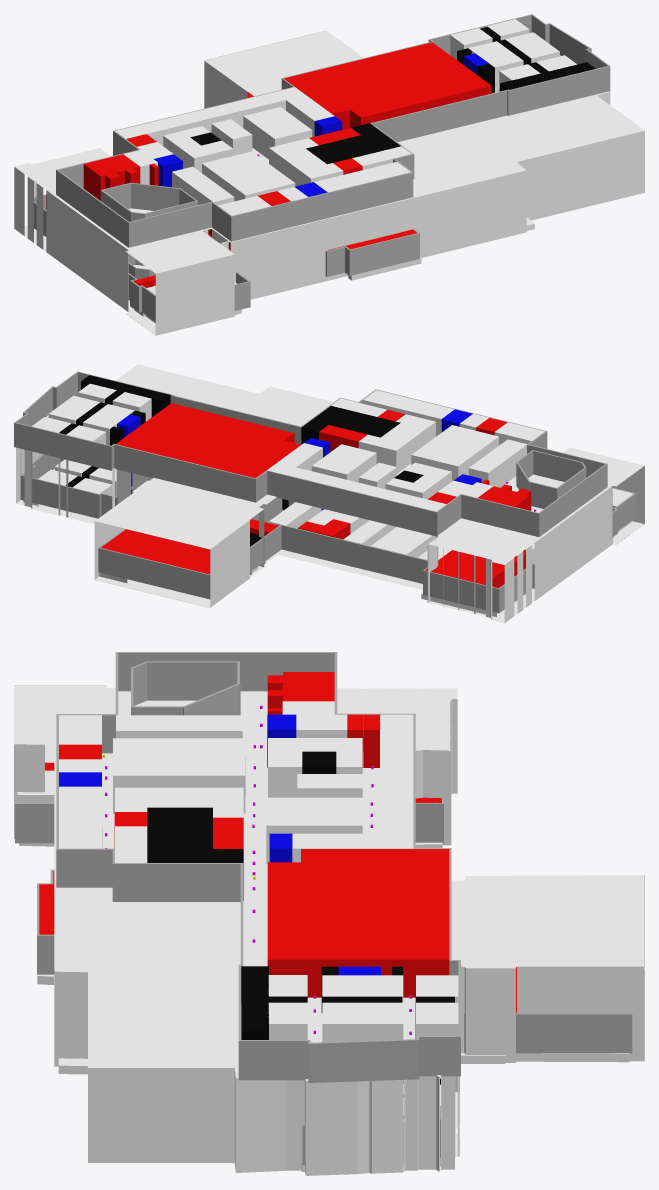
Rendered from school.dae.
3 renders of one model, top to bottom at view 1: azimuth 30°, elevation 25°; view 2: azimuth 150°, elevation 25°; view 3: azimuth 270°, elevation 25°, orthographic. The views are drawn at different scales.
Parts seen in each view (by area): view 1: Floor2_base, Structures2, Upper_Gym, Non_001, Wall__75_, Wall__53_, Wall__54__001, Wall__73_, Wall__72_, Wall__19_, Bathroom_001, Multi-Purpose_Room (+5 smaller); view 2: Floor2_base, Structures2, Upper_Gym, Structures1, Non_001, Wall__69_, Wall__3_, Wall__67_, Wall__2_, North_Gym, Wall__65_, Wall__53_ (+19 smaller); view 3: Floor2_base, Structures2, Upper_Gym, Non_001, Wall__78_, Wall, Wall__57__001, Wall__72_, Wall__61_, Wall__55__001, Bathroom_001, Floor1_base (+10 smaller).
Part boxes in pixels (x1,y1,x2,y2): Floor2_base: (14, 30, 644, 335); Structures2: (115, 19, 577, 215); Upper_Gym: (284, 42, 480, 129); Non_001: (190, 48, 595, 164); Wall__75_: (232, 172, 411, 241); Wall__53_: (145, 89, 508, 217); Wall__54__001: (507, 65, 610, 115); Wall__73_: (128, 201, 212, 247); Wall__72_: (56, 169, 129, 247); Wall__19_: (348, 233, 419, 275); Bathroom_001: (154, 53, 488, 196); Multi-Purpose_Room: (83, 154, 140, 200); Floor2_base: (16, 364, 644, 623); Structures2: (32, 383, 544, 511); Upper_Gym: (116, 410, 300, 478); Structures1: (38, 459, 534, 563); Non_001: (81, 375, 423, 482); Wall__69_: (267, 470, 437, 536); Wall__3_: (280, 524, 427, 583); Wall__67_: (114, 444, 255, 502); Wall__2_: (99, 547, 210, 599); North_Gym: (101, 529, 210, 574); Wall__65_: (14, 422, 110, 470); Wall__53_: (170, 395, 582, 481); Floor2_base: (14, 685, 644, 1175); Structures2: (59, 701, 458, 1042); Upper_Gym: (301, 849, 449, 997); Non_001: (147, 751, 402, 1039); Wall__78_: (114, 863, 242, 901); Wall: (464, 1013, 632, 1053); Wall__57__001: (308, 1039, 418, 1082); Wall__72_: (116, 652, 337, 691); Wall__61_: (146, 661, 239, 700); Wall__55__001: (239, 1040, 308, 1080); Bathroom_001: (59, 714, 380, 975); Floor1_base: (19, 842, 629, 1171).
Bounding box in the file's own units: 188 × 126 × 29.34.
